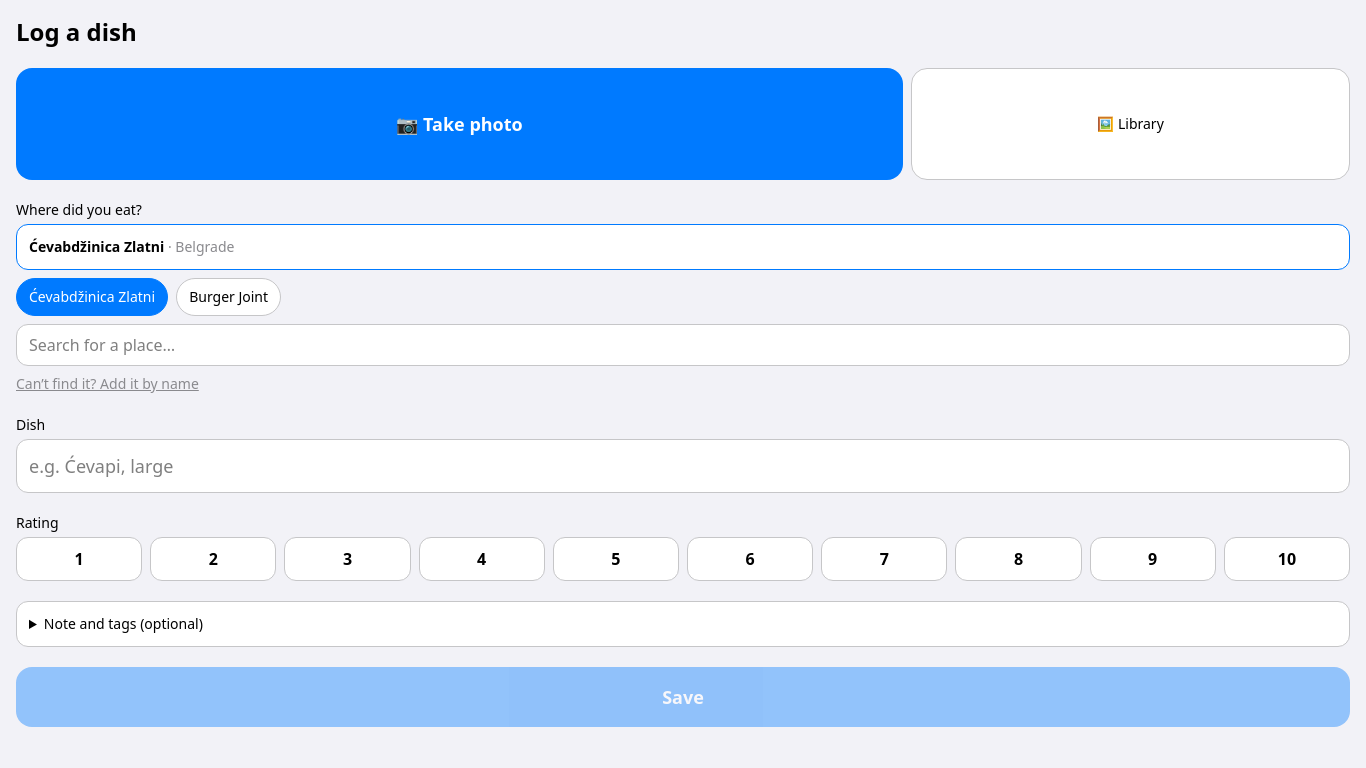
Test case: logging a dish › keeps Save disabled until there is a name and a rating
The width and height of the screenshot is (1366, 768).
Expected: the element with test id "selected-place" is shown, [16,224,1350,270]
Expected: the button "Save" is disabled, [16,667,1350,727]
In the field labelled "Dish": (683, 466) [16,439,1350,493], type "Burek"
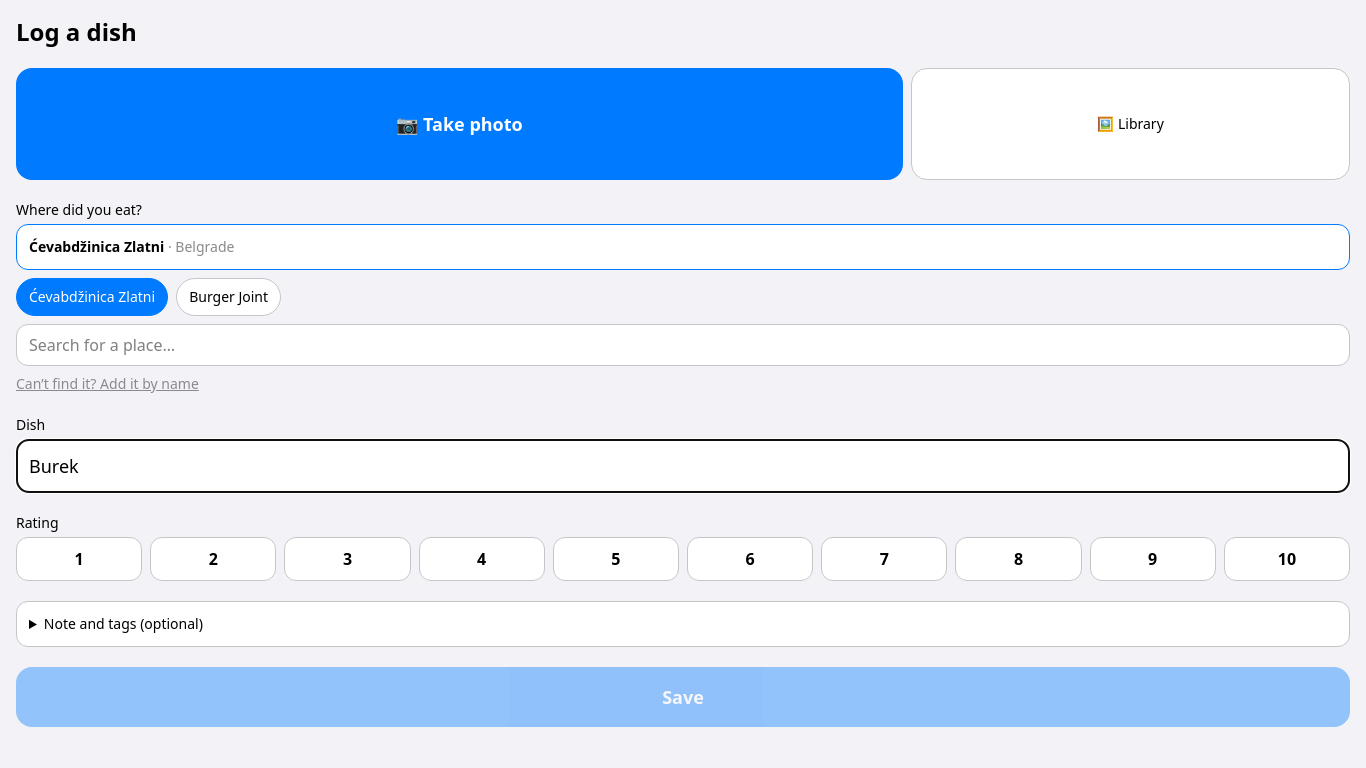
Expected: the button "Save" is disabled, [16,667,1350,727]
Click the button named "Rate 7": (884, 559) [821,537,947,581]
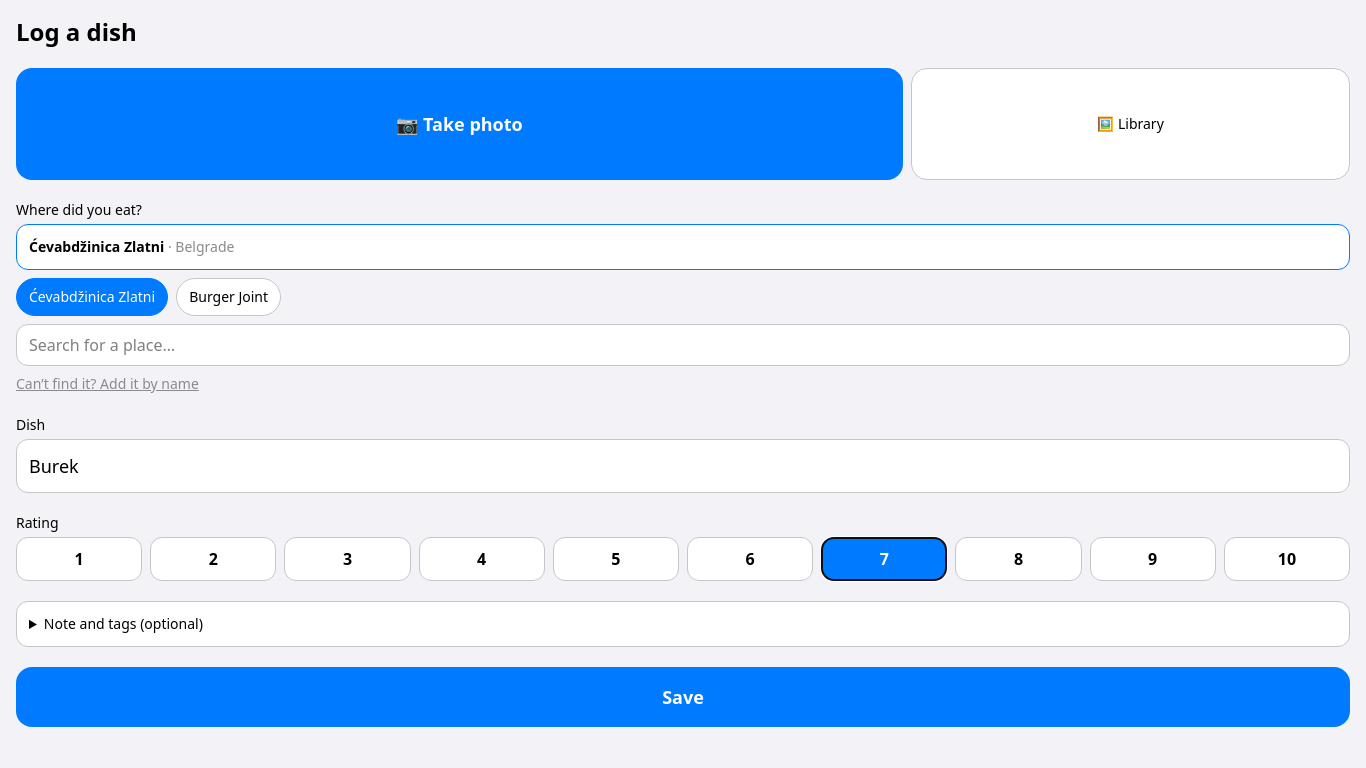
Now the button "Save" is enabled, box [16,667,1350,727]
